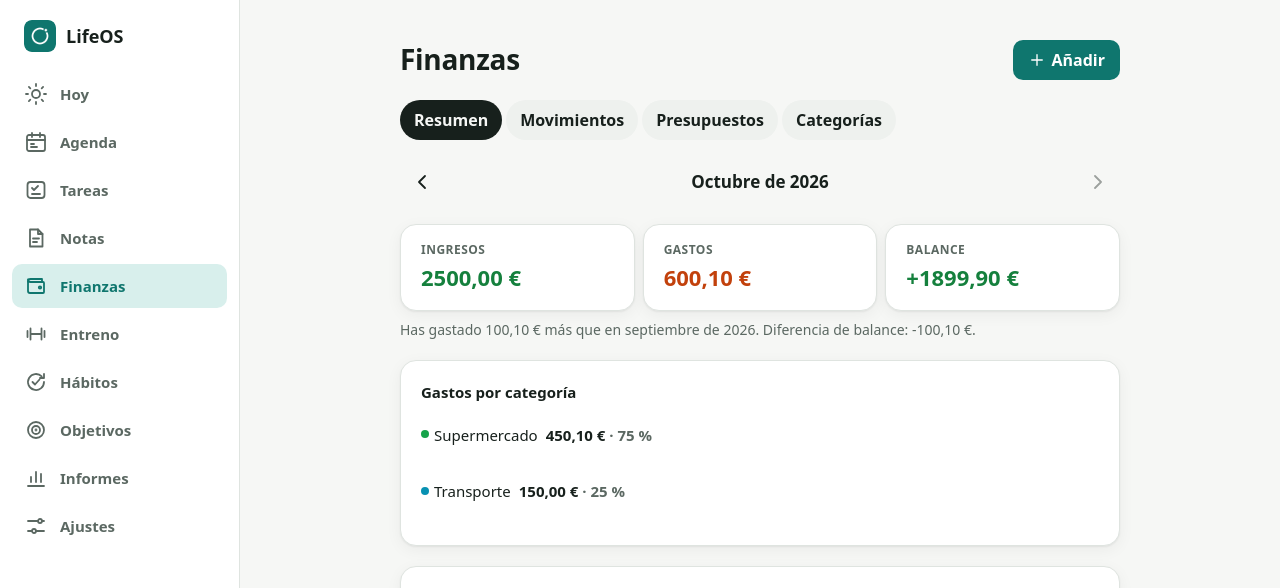
Test: finanzas › abre el historial filtrado al tocar una categoría
The width and height of the screenshot is (1280, 588).
Click the button "Supermercado 450,10 € · 75 %" at point(486, 434), box [421,416,1099,468]
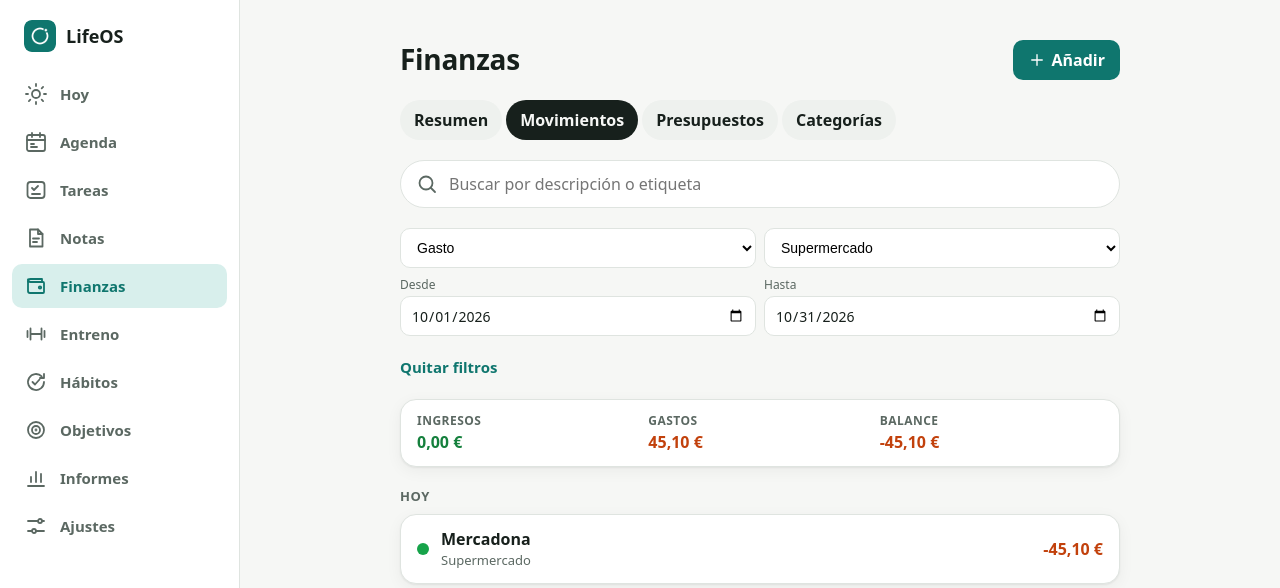
Result: the text "Mercadona" is shown at [441,528,531,550]
Result: the 2nd dropdown named "Categoría" shows "Supermercado" at [764,228,1120,268]
